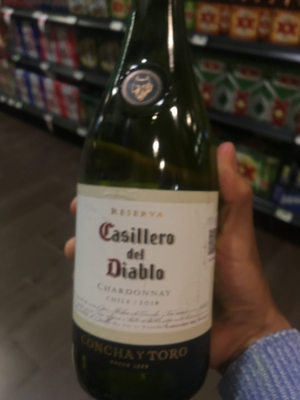casillero del diablo chardonnay: (67, 9, 223, 387)
